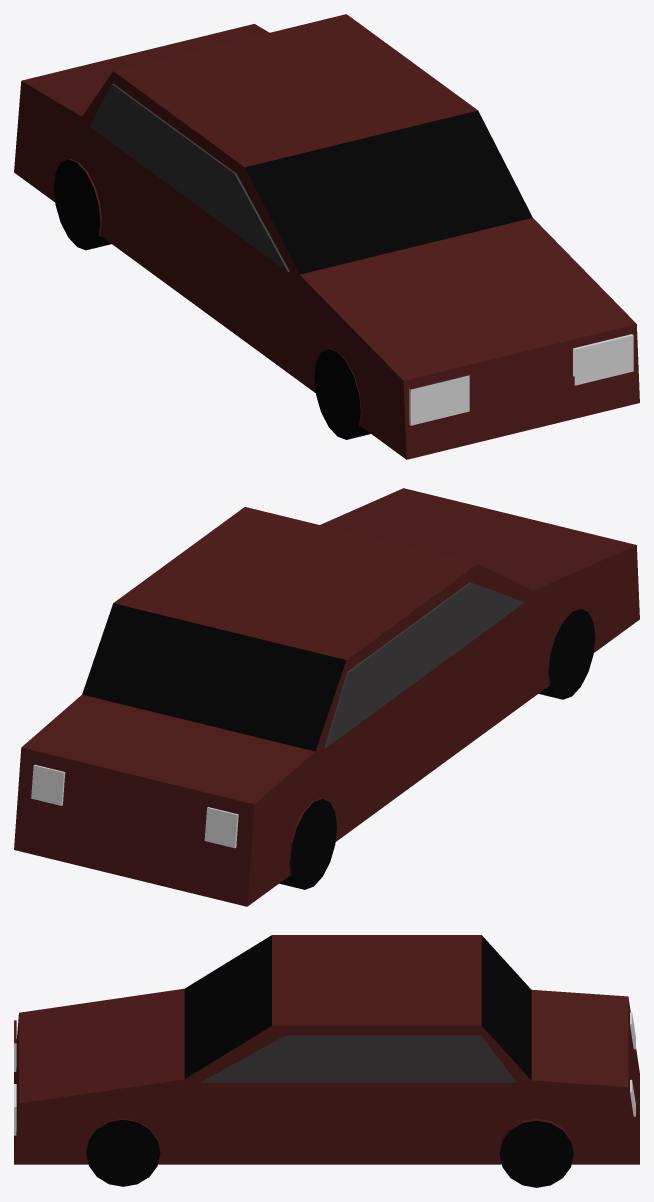
Rendered from car01.fbx.
3 renders of one model, top to bottom at view 1: azimuth 30°, elevation 25°; view 2: azimuth 150°, elevation 25°; view 3: azimuth 270°, elevation 25°, orthographic. The views are drawn at different scales.
Parts seen in each view (by area): view 1: Cube; view 2: Cube; view 3: Cube.
Part boxes in pixels (box(x1,y1,x2,y2)): Cube: box(14, 14, 639, 459); Cube: box(14, 488, 639, 906); Cube: box(14, 935, 639, 1187).
Bounding box in the file's own units: 161 × 128 × 455.
